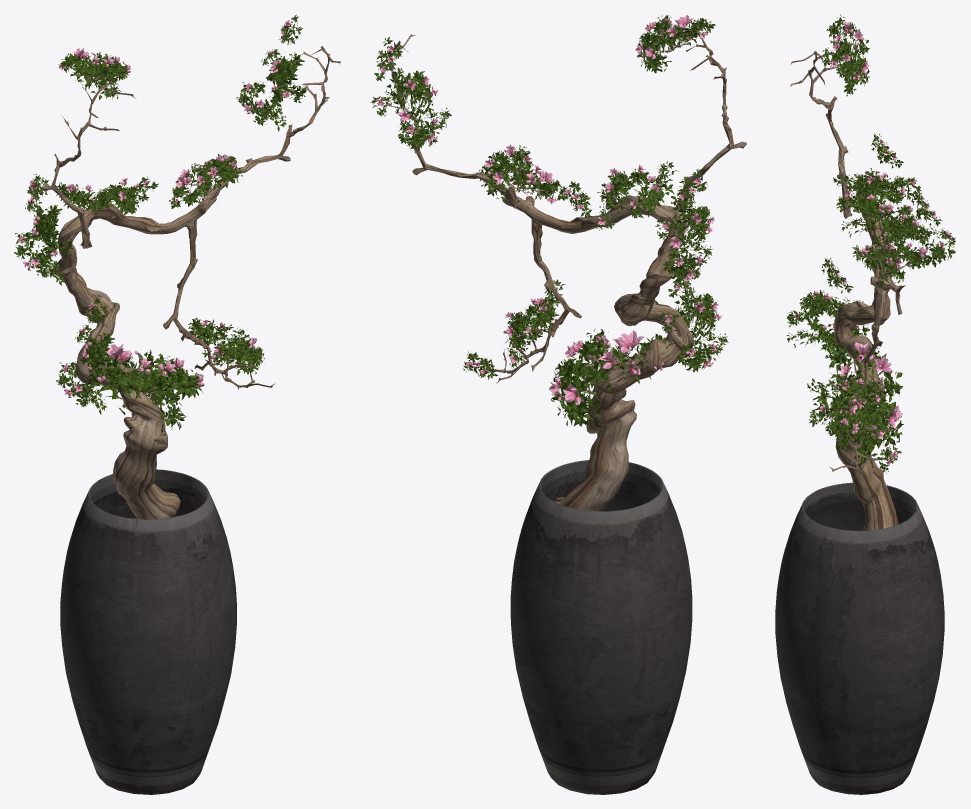
The picture shows the model from 3 angles, left to right: view 1: azimuth 30°, elevation 25°; view 2: azimuth 150°, elevation 25°; view 3: azimuth 270°, elevation 25°; orthographic projection. The views are drawn at different scales.
Parts seen in each view (by area): view 1: xiadele_Obj3d66_543641_130_959, xiadele_Obj3d66_543641_131_750, xiadele_Obj3d66_543641_129_183, FL, xiadele_Obj3d66_543641_101_233, xiadele_Obj3d66_543641_120_478, xiadele_Obj3d66_543641_175_152, xiadele_Obj3d66_543641_132_397, xiadele_Obj3d66_543641_183_385, xiadele_Obj3d66_543641_140_296, xiadele_Obj3d66_543641_206_782, xiadele_Obj3d66_543641_154_75 (+5 smaller); view 2: xiadele_Obj3d66_543641_130_959, xiadele_Obj3d66_543641_131_750, FL, xiadele_Obj3d66_543641_129_183, xiadele_Obj3d66_543641_120_478, xiadele_Obj3d66_543641_101_233, xiadele_Obj3d66_543641_183_385, xiadele_Obj3d66_543641_132_397, xiadele_Obj3d66_543641_140_296, xiadele_Obj3d66_543641_206_782, xiadele_Obj3d66_543641_87_618, xiadele_Obj3d66_543641_175_152 (+7 smaller); view 3: xiadele_Obj3d66_543641_130_959, xiadele_Obj3d66_543641_131_750, xiadele_Obj3d66_543641_129_183, FL, xiadele_Obj3d66_543641_101_233, xiadele_Obj3d66_543641_132_397, xiadele_Obj3d66_543641_154_75, xiadele_Obj3d66_543641_140_296, xiadele_Obj3d66_543641_183_385, xiadele_Obj3d66_543641_87_618, xiadele_Obj3d66_543641_161_366, xiadele_Obj3d66_543641_120_478 (+5 smaller).
Boxes of the visible parts, left/top/right/bottom form: xiadele_Obj3d66_543641_130_959: left=60, top=469, right=236, bottom=794; xiadele_Obj3d66_543641_131_750: left=54, top=185, right=274, bottom=519; xiadele_Obj3d66_543641_129_183: left=94, top=349, right=204, bottom=429; FL: left=18, top=20, right=290, bottom=397; xiadele_Obj3d66_543641_101_233: left=60, top=52, right=130, bottom=99; xiadele_Obj3d66_543641_120_478: left=169, top=154, right=242, bottom=208; xiadele_Obj3d66_543641_175_152: left=202, top=46, right=340, bottom=202; xiadele_Obj3d66_543641_132_397: left=41, top=79, right=135, bottom=248; xiadele_Obj3d66_543641_183_385: left=265, top=52, right=306, bottom=104; xiadele_Obj3d66_543641_140_296: left=80, top=332, right=120, bottom=386; xiadele_Obj3d66_543641_206_782: left=32, top=205, right=73, bottom=259; xiadele_Obj3d66_543641_154_75: left=213, top=336, right=264, bottom=376; xiadele_Obj3d66_543641_130_959: left=510, top=460, right=692, bottom=794; xiadele_Obj3d66_543641_131_750: left=490, top=186, right=694, bottom=511; FL: left=376, top=14, right=722, bottom=404; xiadele_Obj3d66_543641_129_183: left=551, top=329, right=674, bottom=426; xiadele_Obj3d66_543641_120_478: left=476, top=145, right=567, bottom=200; xiadele_Obj3d66_543641_101_233: left=636, top=15, right=715, bottom=73; xiadele_Obj3d66_543641_183_385: left=386, top=67, right=433, bottom=116; xiadele_Obj3d66_543641_132_397: left=675, top=20, right=746, bottom=211; xiadele_Obj3d66_543641_140_296: left=674, top=286, right=716, bottom=339; xiadele_Obj3d66_543641_206_782: left=670, top=197, right=709, bottom=250; xiadele_Obj3d66_543641_87_618: left=597, top=169, right=649, bottom=212; xiadele_Obj3d66_543641_175_152: left=383, top=34, right=521, bottom=208; xiadele_Obj3d66_543641_130_959: left=775, top=482, right=944, bottom=794; xiadele_Obj3d66_543641_131_750: left=829, top=199, right=898, bottom=530; xiadele_Obj3d66_543641_129_183: left=813, top=330, right=903, bottom=466; FL: left=794, top=21, right=952, bottom=465; xiadele_Obj3d66_543641_101_233: left=821, top=14, right=869, bottom=96; xiadele_Obj3d66_543641_132_397: left=790, top=51, right=852, bottom=218; xiadele_Obj3d66_543641_154_75: left=809, top=397, right=865, bottom=452; xiadele_Obj3d66_543641_140_296: left=786, top=290, right=841, bottom=331; xiadele_Obj3d66_543641_183_385: left=873, top=217, right=934, bottom=254; xiadele_Obj3d66_543641_87_618: left=836, top=186, right=893, bottom=231; xiadele_Obj3d66_543641_161_366: left=831, top=374, right=886, bottom=417; xiadele_Obj3d66_543641_120_478: left=852, top=242, right=905, bottom=287.
Size of the model in its own units: 1007 by 2275 by 520.
Materials: 9 (9 with a texture image).
